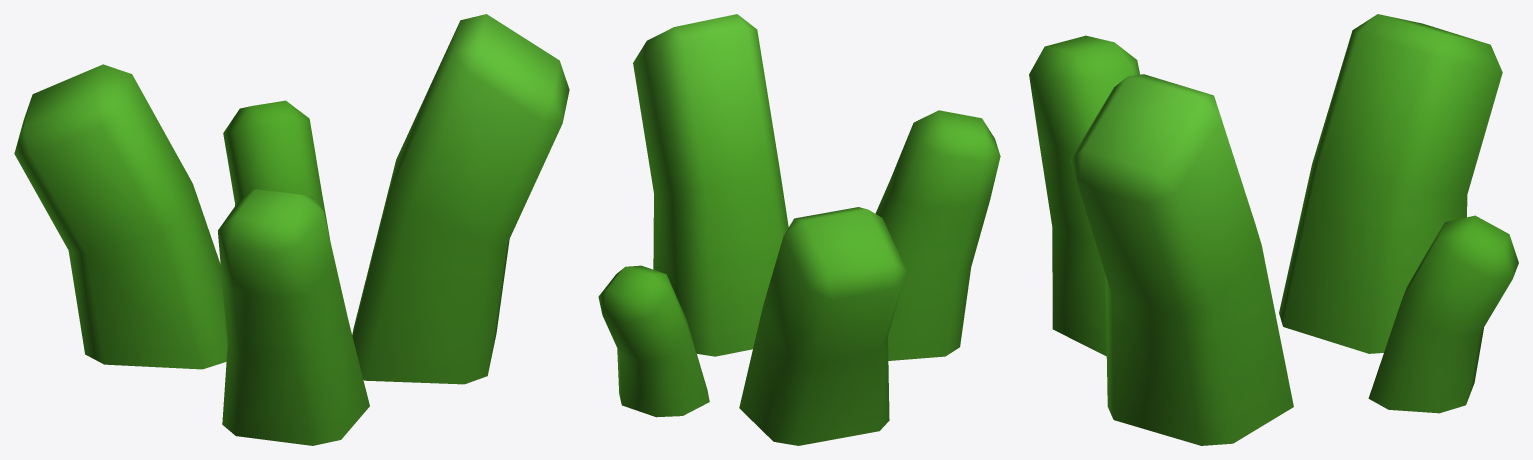
Rendered from Grass_3_2.glb.
The picture shows the model from 3 angles, left to right: view 1: azimuth 30°, elevation 25°; view 2: azimuth 150°, elevation 25°; view 3: azimuth 270°, elevation 25°; orthographic projection. The views are drawn at different scales.
Parts seen in each view (by area): view 1: Grass_3_2; view 2: Grass_3_2; view 3: Grass_3_2.
Part boxes in pixels (bbox=[...]): Grass_3_2: bbox=[14, 14, 569, 445]; Grass_3_2: bbox=[598, 14, 1000, 445]; Grass_3_2: bbox=[1029, 14, 1518, 445].
Size of the model in its own units: 0.2396 by 0.1757 by 0.2272.
Materials: 1 (1 with a texture image).
